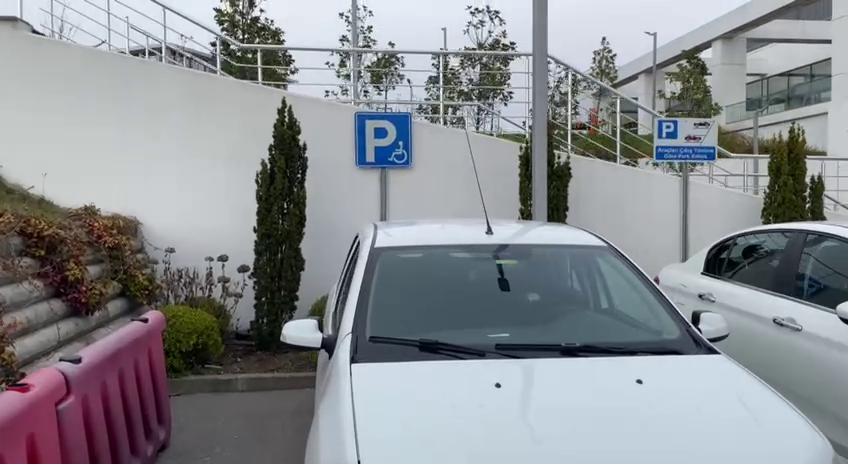parking: (354, 111, 413, 167), (657, 119, 679, 141)
